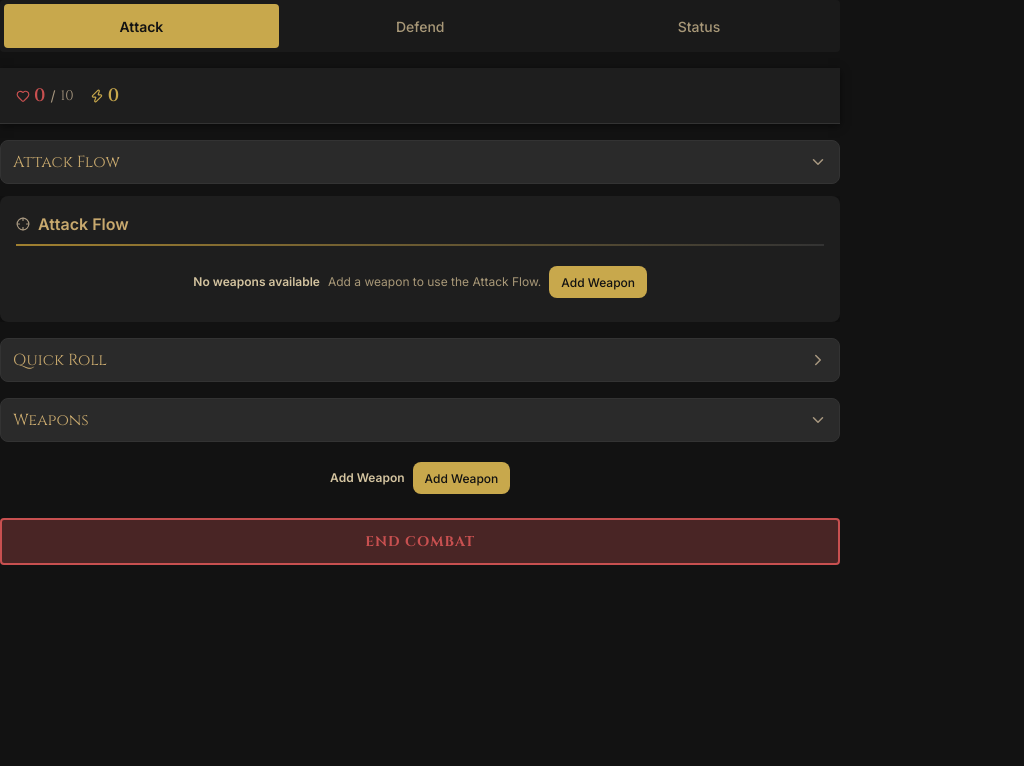
Test: CombatPage contextual visibility - Fortune/Resolve Panel › renders Fortune & Resolve as a collapsed section (dashboard shows compact version)
# Fortune & Resolve is in Status mode
Click the tab "Status" at (699,26), box [562,4,836,48]
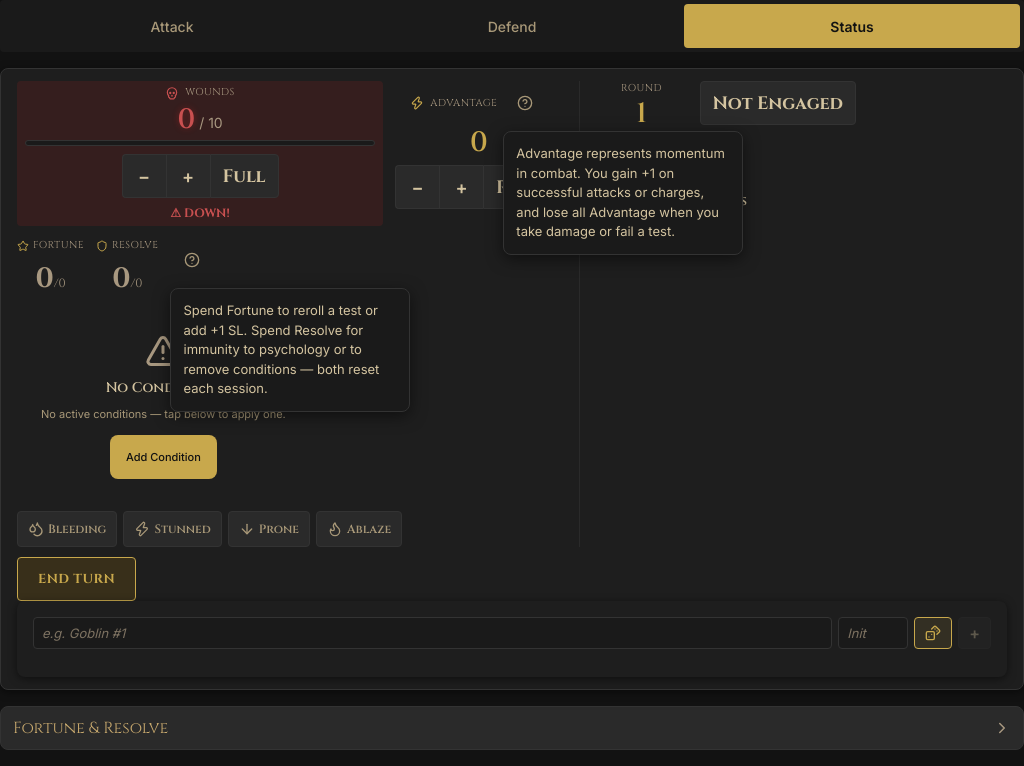
Check: the text "Fortune & Resolve" is shown, box [13,716,168,738]
